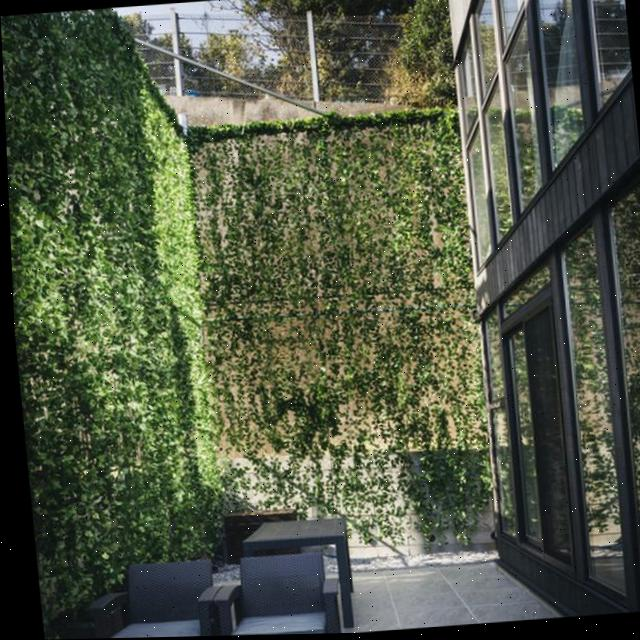building: (440, 0, 640, 622)
